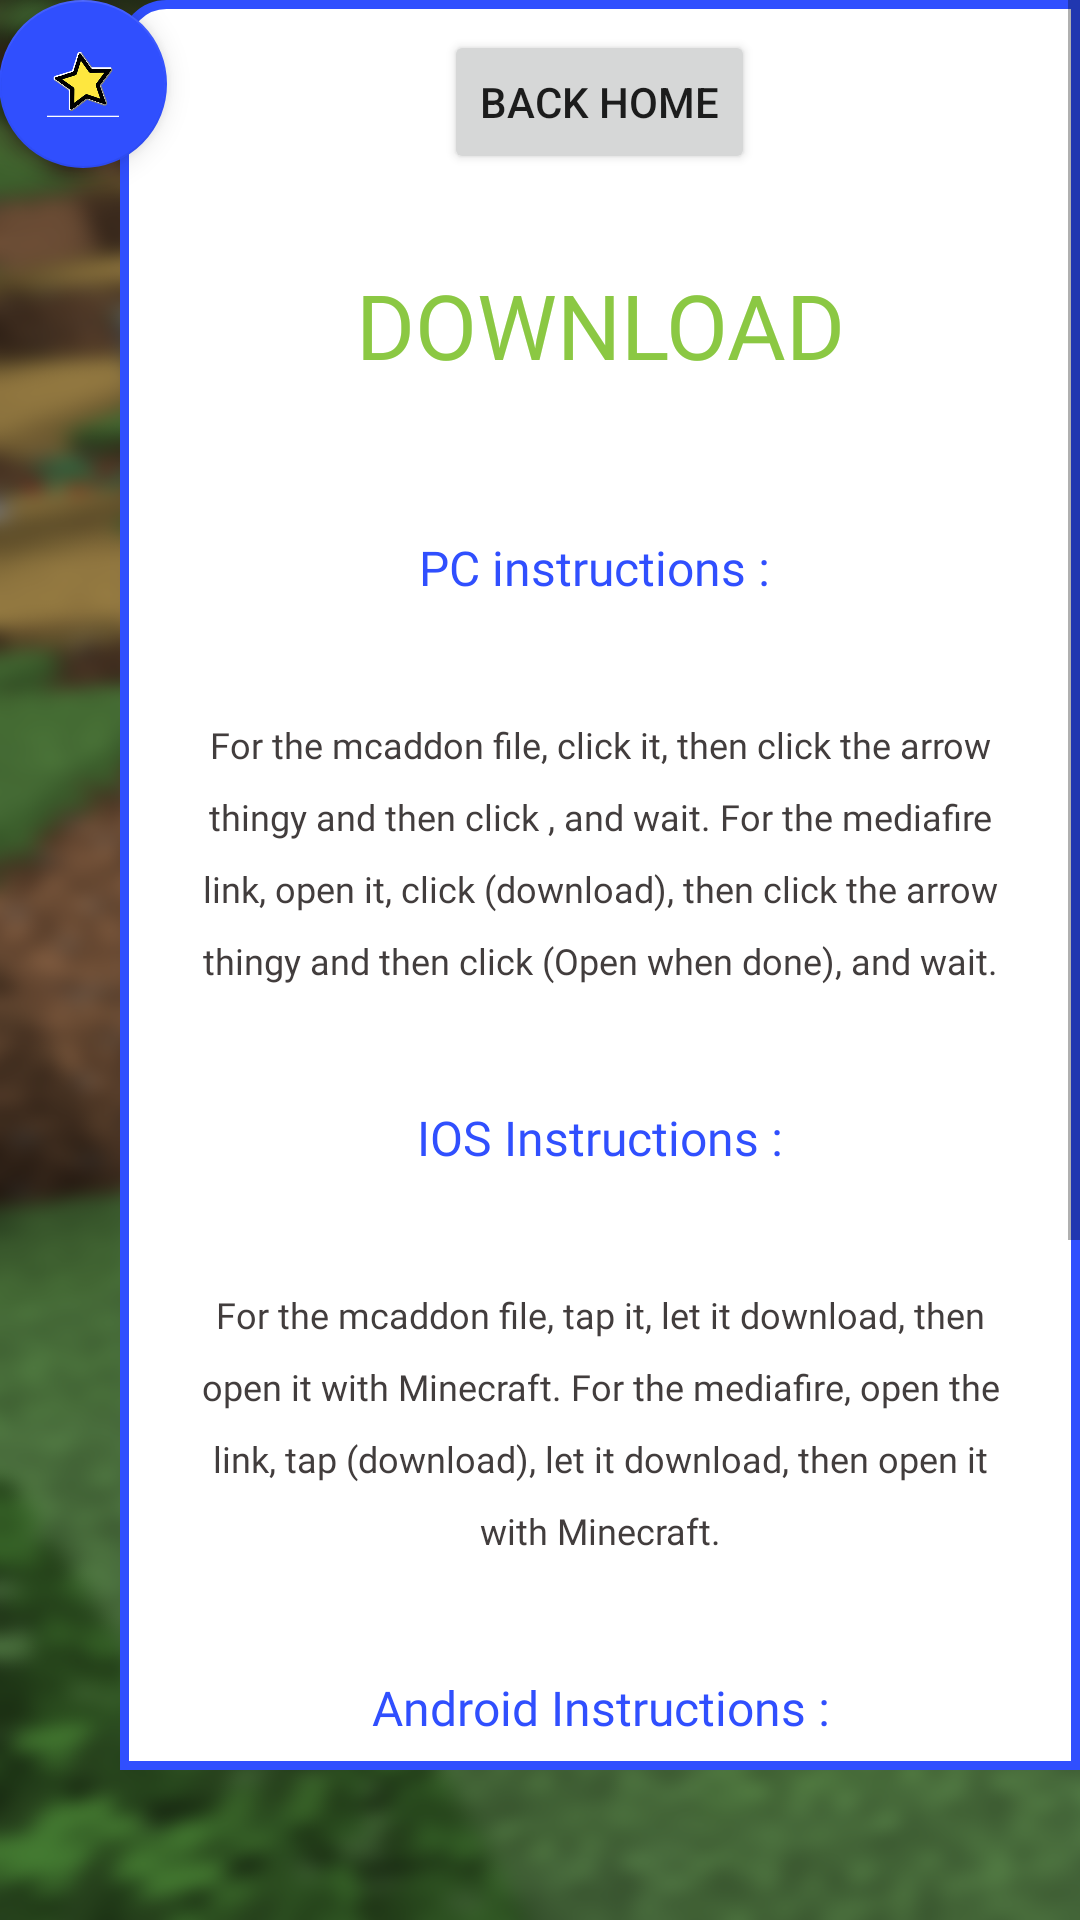

Point at icon controls on the screen. Image size 1080*1920, points as [x,y].
star: [83,84]
